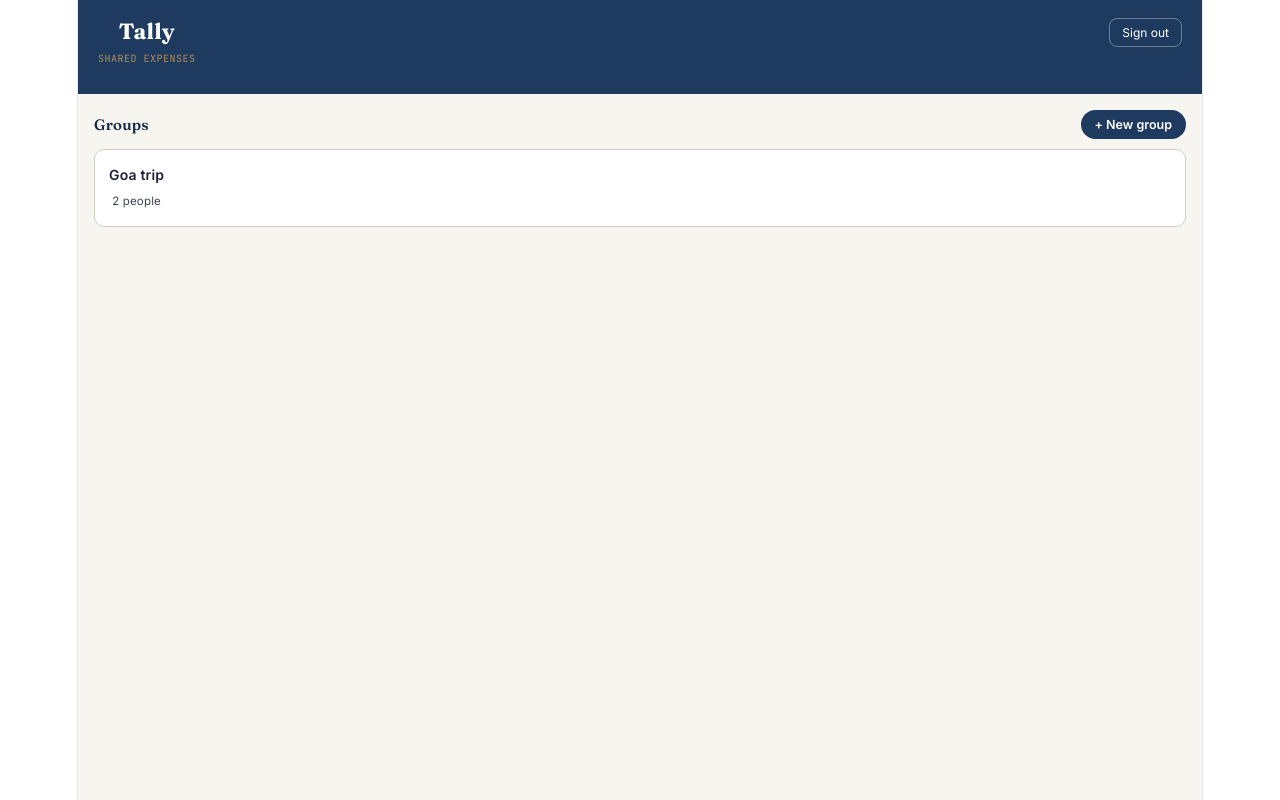
Test: Balances and removal › shows each member's balance and disables Remove while unsettled
Click the text "Goa trip" at (137, 175), box [109, 162, 164, 188]
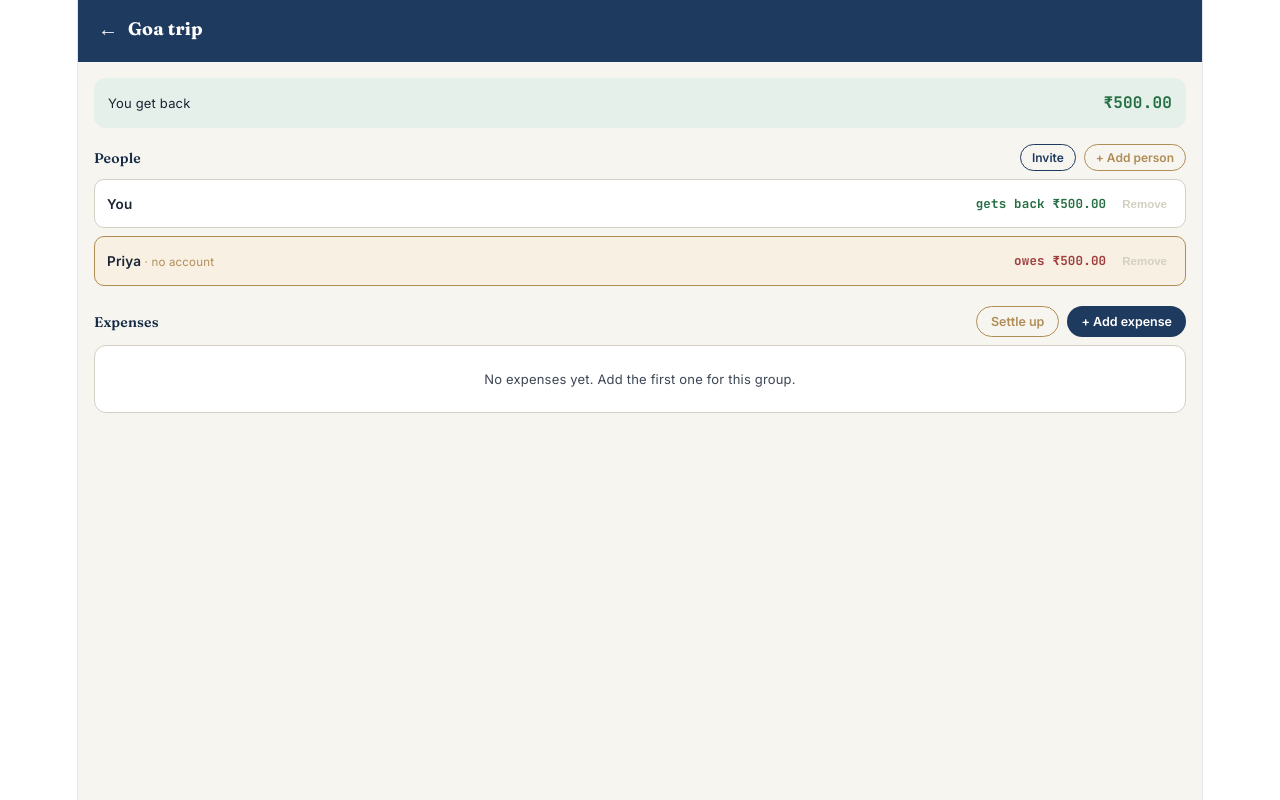
Expected: the text "gets back ₹500.00" is shown, [976, 191, 1106, 217]
Expected: the text "owes ₹500.00" is shown, [1014, 248, 1106, 274]
Expected: the button "Remove" next to "gets back ₹500.00" is disabled, [1116, 197, 1173, 211]
